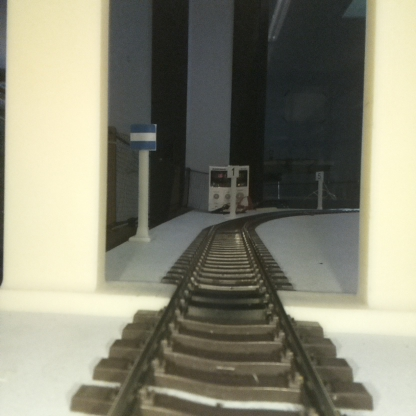start: (130, 123, 156, 238)
white-info-1: (227, 164, 239, 217)
